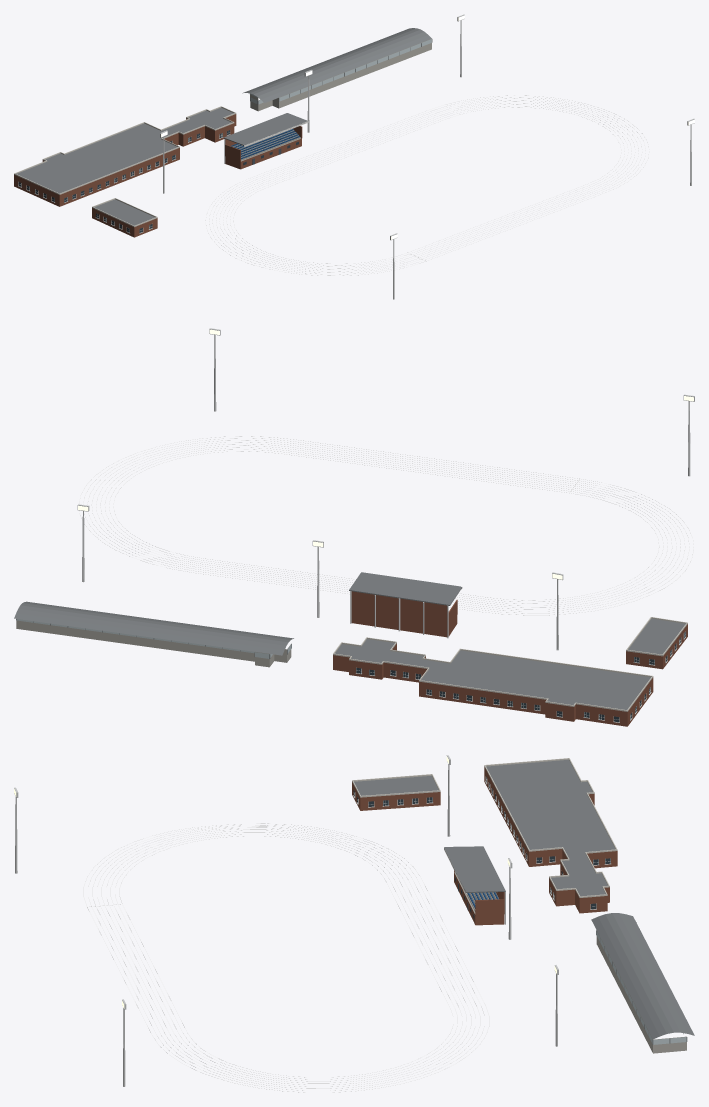
The model's file is linford_christie_stadium.glb.
The picture shows the model from 3 angles, top to bottom: view 1: azimuth 30°, elevation 25°; view 2: azimuth 150°, elevation 25°; view 3: azimuth 270°, elevation 25°; orthographic projection. The views are drawn at different scales.
Size of the model in its own units: 210 by 26.94 by 185.
